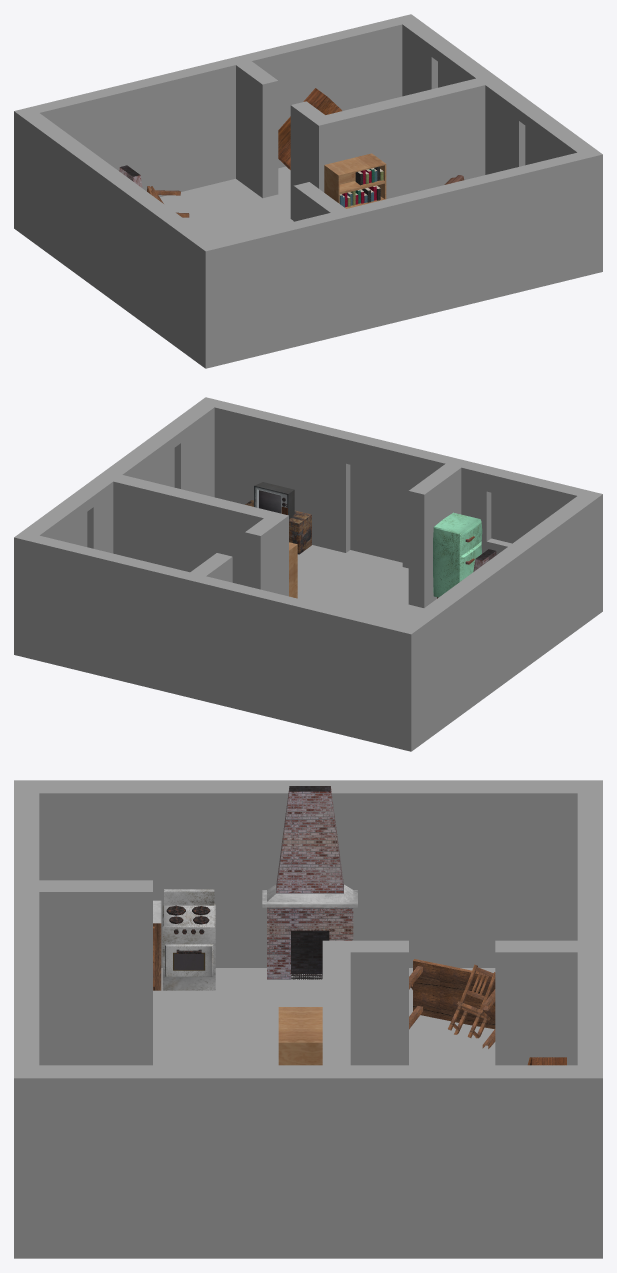
The model's file is H2_Int_Damaged.fbx.
3 renders of one model, top to bottom at view 1: azimuth 30°, elevation 25°; view 2: azimuth 150°, elevation 25°; view 3: azimuth 270°, elevation 25°, orthographic. The views are drawn at different scales.
Parts seen in each view (by area): view 1: House_Type_2_Damaged_House_1_Interior2, BookShelf8, Closet3; view 2: House_Type_2_Damaged_House_1_Interior2, Fidge2, Tube_tv, Tv_stand2, BookShelf8; view 3: House_Type_2_Damaged_House_1_Interior2, Fire_Place_5, StoveTop1, Table2, BookShelf8, Chair4, KItchen_Sink_4.
Part boxes in pixels (x1,y1,x2,y2): House_Type_2_Damaged_House_1_Interior2: (14,14,602,368); BookShelf8: (324,153,386,208); Closet3: (278,88,341,169); House_Type_2_Damaged_House_1_Interior2: (14,397,602,751); Fidge2: (433,512,482,598); Tube_tv: (254,482,294,519); Tv_stand2: (245,500,311,554); BookShelf8: (289,542,297,598); House_Type_2_Damaged_House_1_Interior2: (14,780,602,1258); Fire_Place_5: (262,786,357,979); StoveTop1: (162,889,215,990); Table2: (409,959,495,1048); BookShelf8: (278,1007,322,1065); Chair4: (448,964,495,1038); KItchen_Sink_4: (153,900,161,990).
Bounding box in the file's own units: 30.07 × 8.83 × 25.13.
